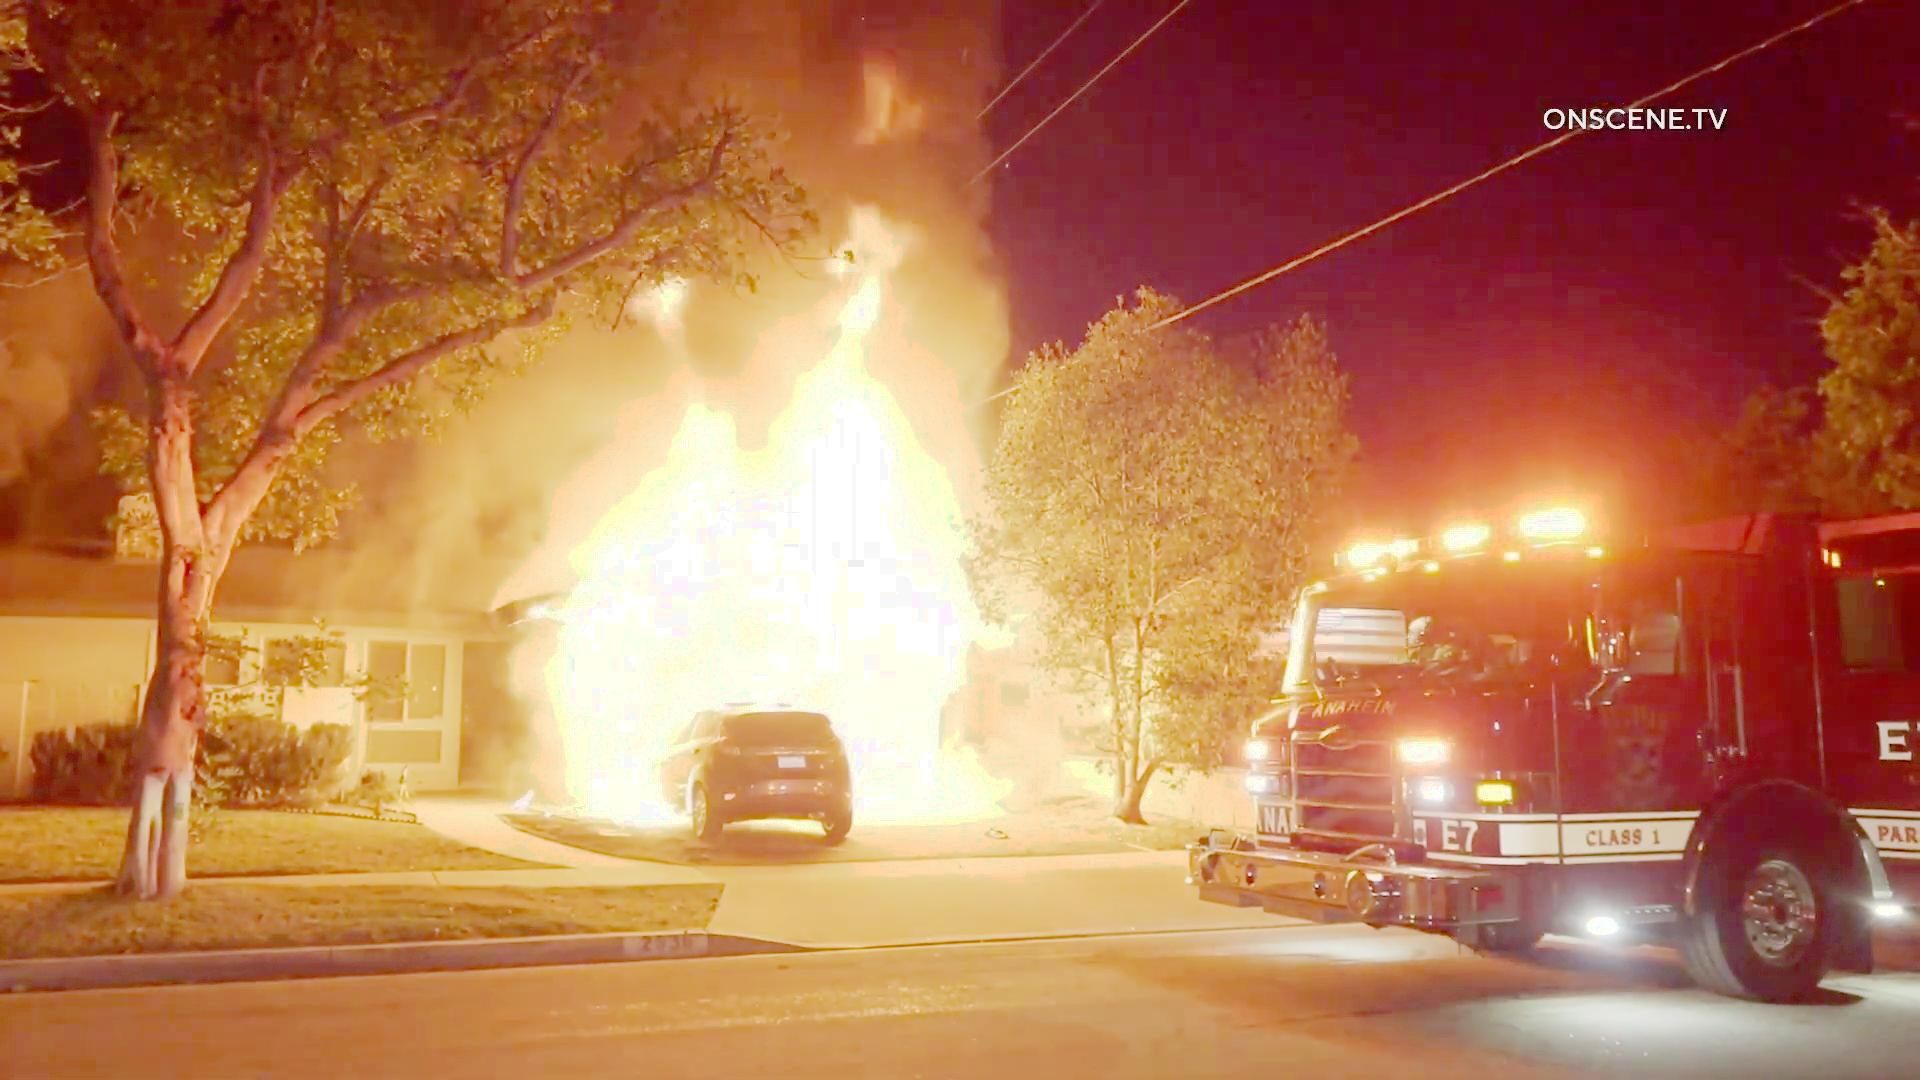fire: (526, 393, 985, 844)
smoke: (269, 353, 574, 600), (609, 21, 985, 220)
